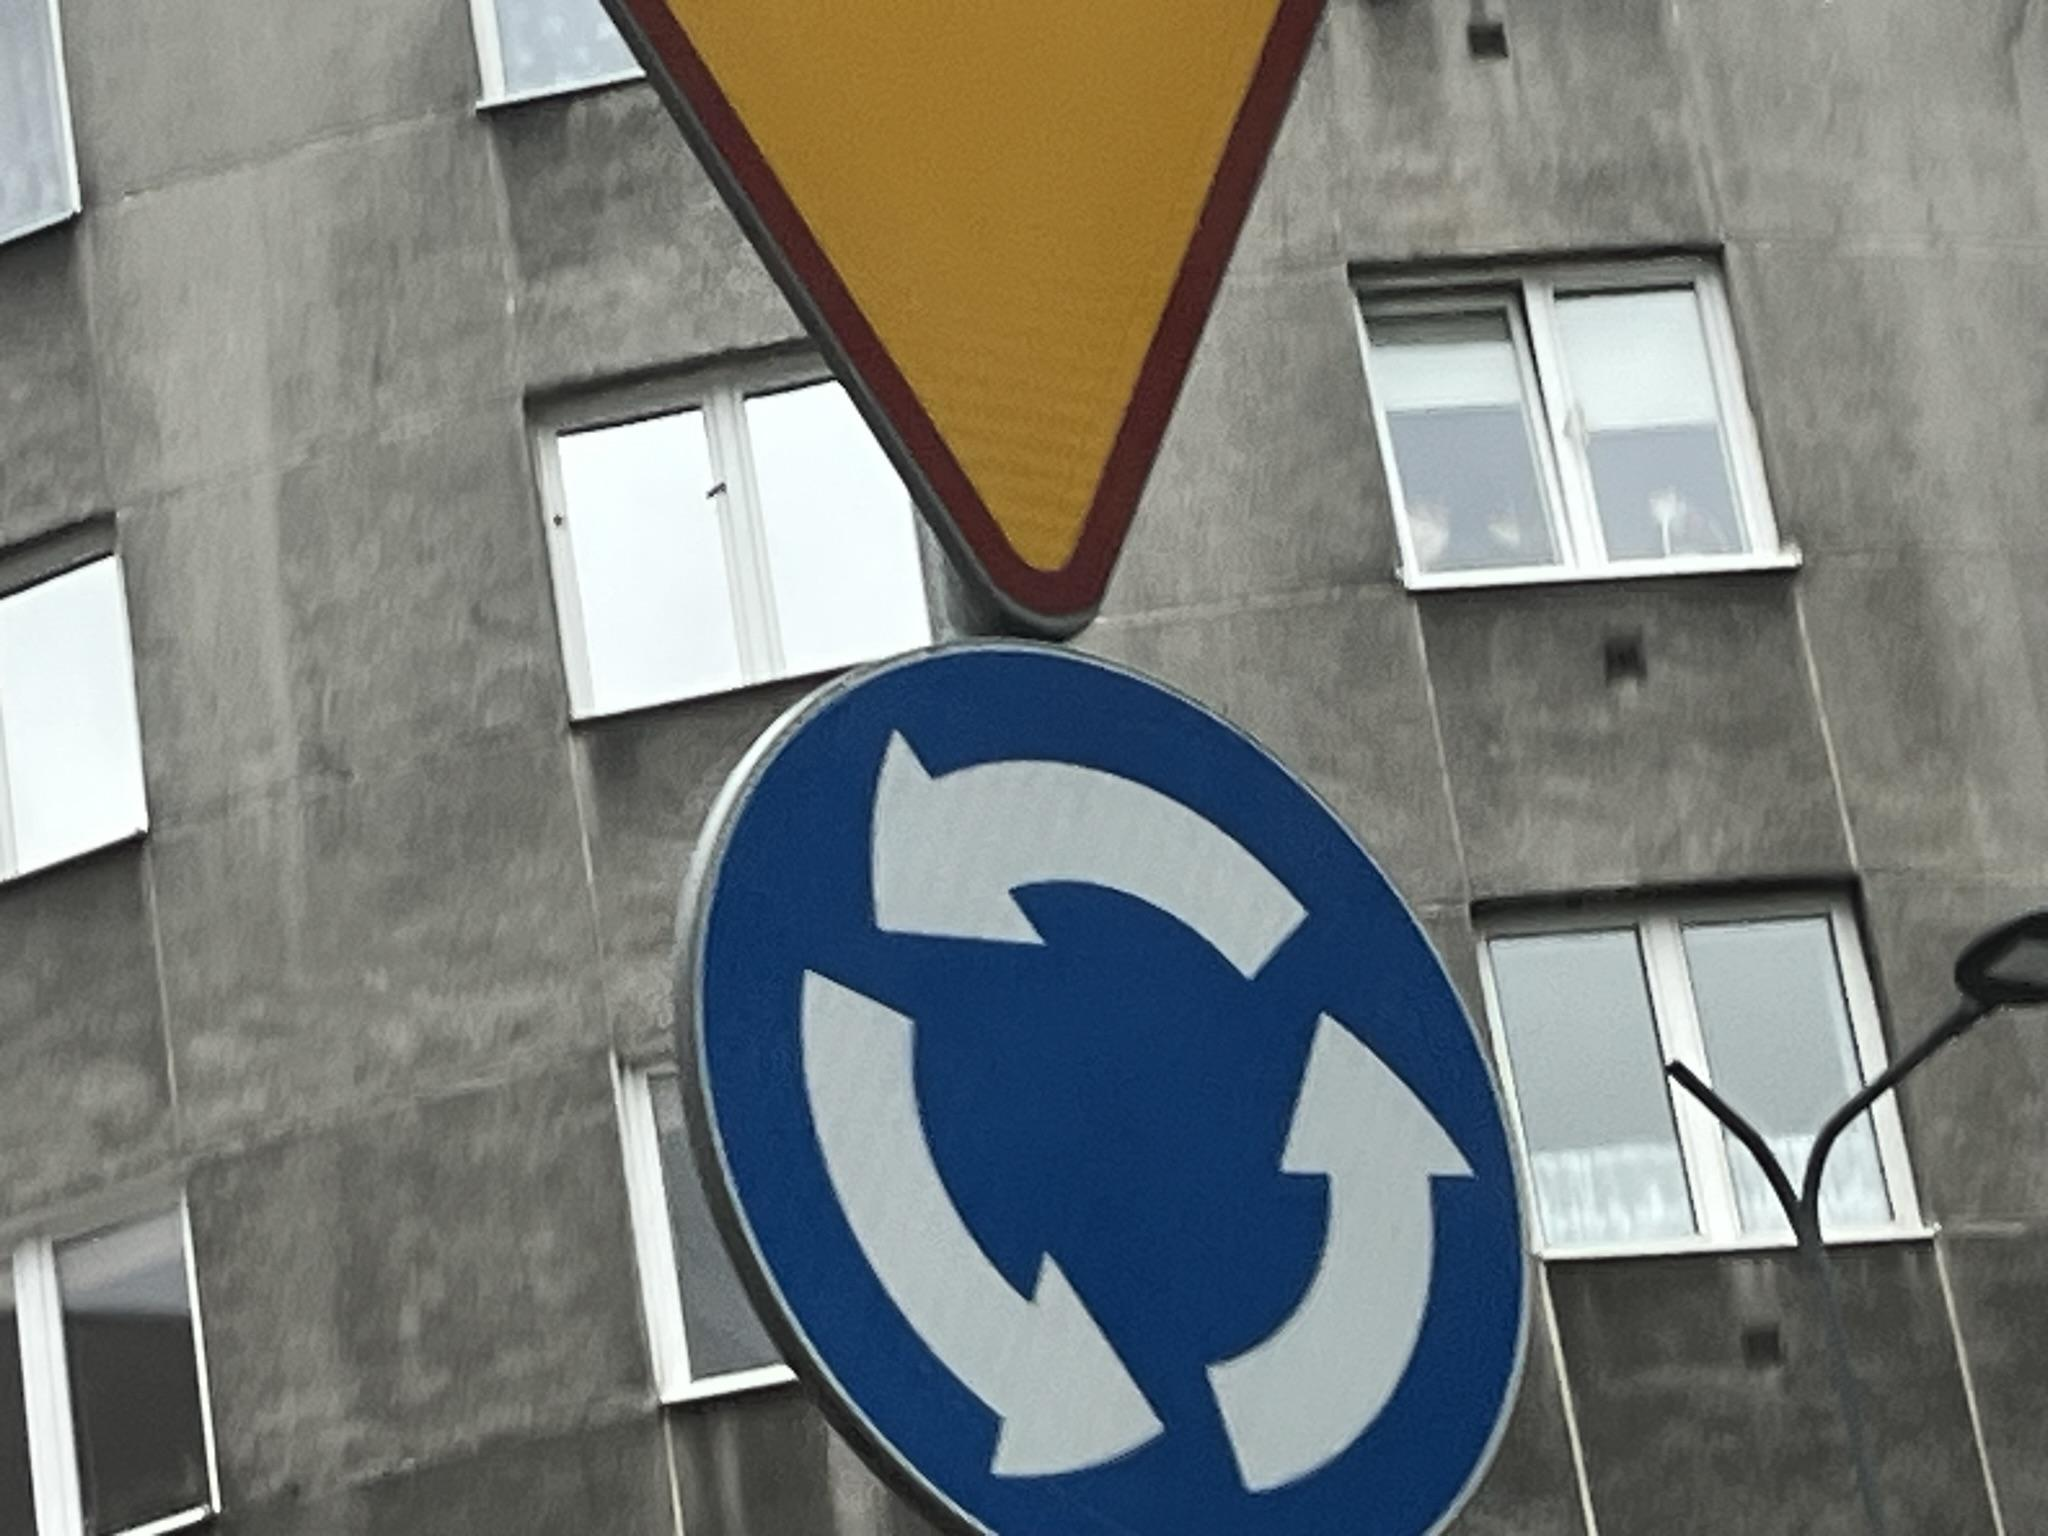mandatory: (676, 636, 1535, 1536)
warning: (597, 0, 1335, 641)
